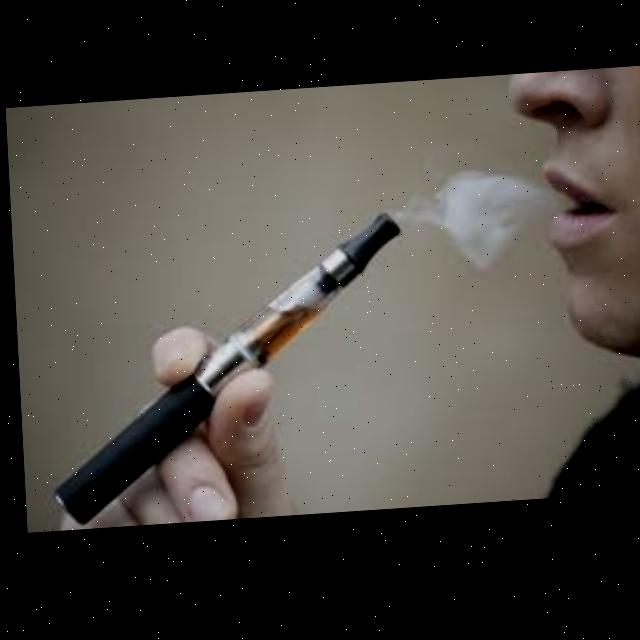vape: (36, 215, 408, 531)
